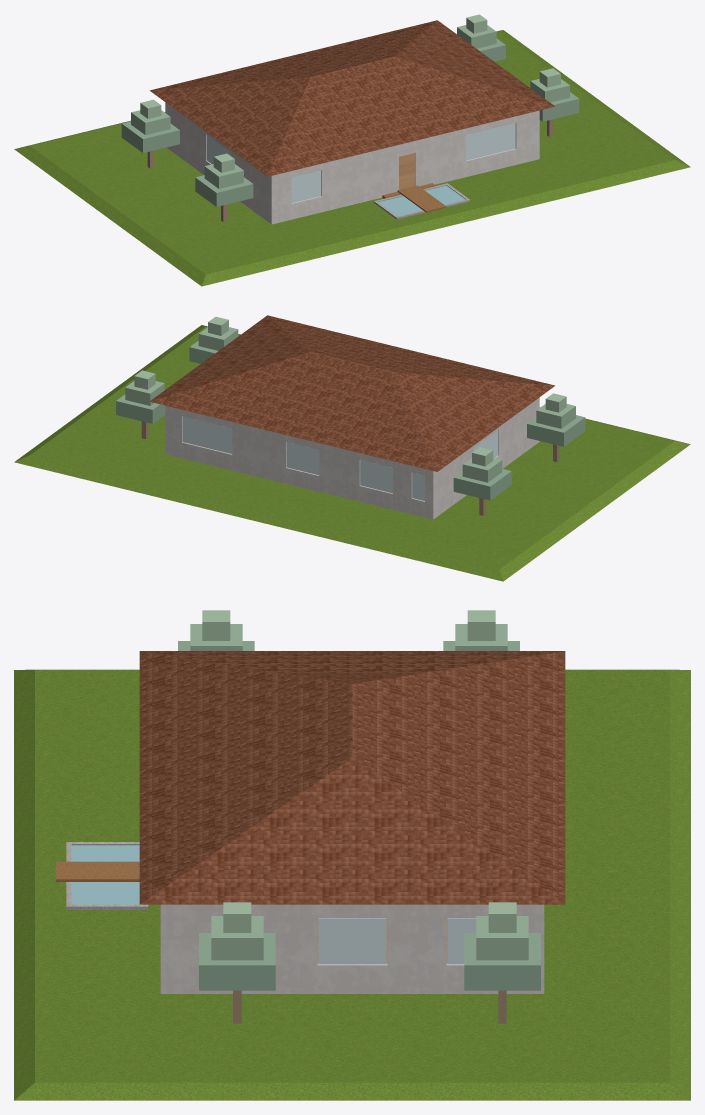
Rendered from Casa Enso.gltf.
3 renders of one model, top to bottom at view 1: azimuth 30°, elevation 25°; view 2: azimuth 150°, elevation 25°; view 3: azimuth 270°, elevation 25°, orthographic. The views are drawn at different scales.
Parts seen in each view (by area): view 1: solido_93, solido_63, solido_4, solido_6, solido_26, solido_66, solido_9, solido_23, solido_78, solido_82, solido_1, solido_98 (+10 smaller); view 2: solido_93, solido_63, solido_19, solido_16, solido_23, solido_70, solido_26, solido_78, solido_82, solido_13, solido_69, solido_86 (+10 smaller); view 3: solido_93, solido_63, solido_27, solido_30, solido_72, solido_86, solido_90, solido_98, solido_28, solido_87, solido_91, solido_99 (+8 smaller).
Part boxes in pixels (x1,y1,x2,y2): solido_93: (14,30,690,286); solido_63: (149,20,554,176); solido_4: (321,145,398,212); solido_6: (415,128,465,186); solido_26: (166,103,206,174); solido_66: (466,123,515,160); solido_9: (515,110,539,164); solido_23: (231,150,270,223); solido_78: (195,175,253,206); solido_82: (121,121,179,152); solido_1: (270,171,291,224); solido_98: (379,185,465,215); solido_93: (14,325,690,581); solido_63: (150,315,554,471); solido_19: (232,422,286,483); solido_16: (319,443,360,501); solido_23: (498,398,538,468); solido_70: (182,416,232,453); solido_26: (434,445,473,518); solido_78: (527,415,585,446); solido_82: (453,469,511,500); solido_13: (393,461,412,514); solido_69: (286,442,319,475); solido_86: (116,394,165,423); solido_93: (14,669,690,1100); solido_63: (139,651,565,904); solido_27: (165,904,317,993); solido_30: (387,904,446,993); solido_72: (318,918,386,964); solido_86: (464,933,540,990); solido_90: (199,933,275,990); solido_98: (71,845,139,904); solido_28: (317,963,387,993); solido_87: (476,916,528,960); solido_91: (211,916,263,960); solido_99: (56,861,139,881).
Bounding box in the file's own units: 29.2 × 5.2 × 19.4.
8 materials, 7 textured.
